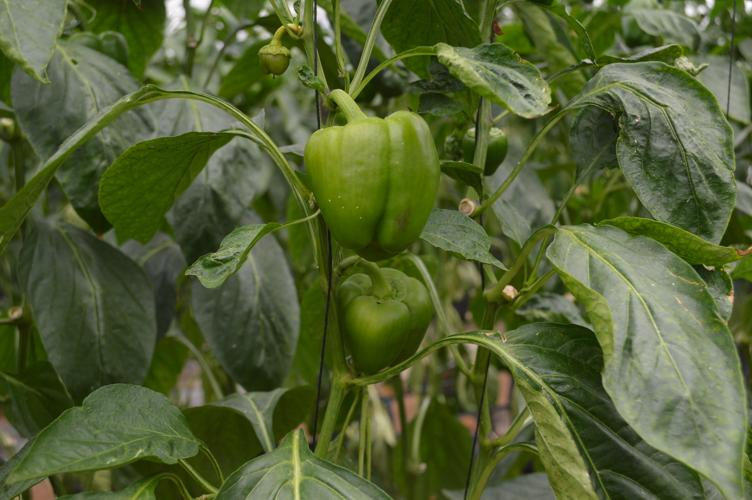BellPepper: (310, 111, 433, 255), (338, 263, 435, 363), (460, 129, 509, 180)
